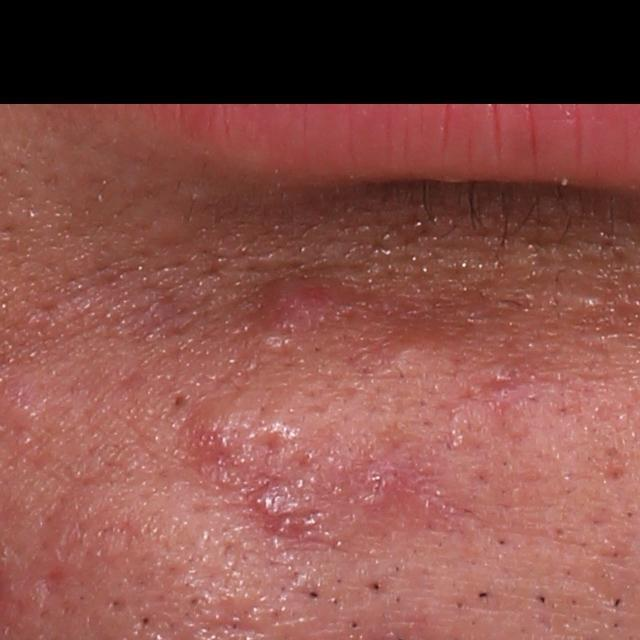atrophic_scar: (186, 596, 255, 635), (32, 561, 69, 603)
papule: (163, 393, 253, 462), (255, 275, 346, 336), (347, 460, 402, 509), (248, 476, 307, 520)
